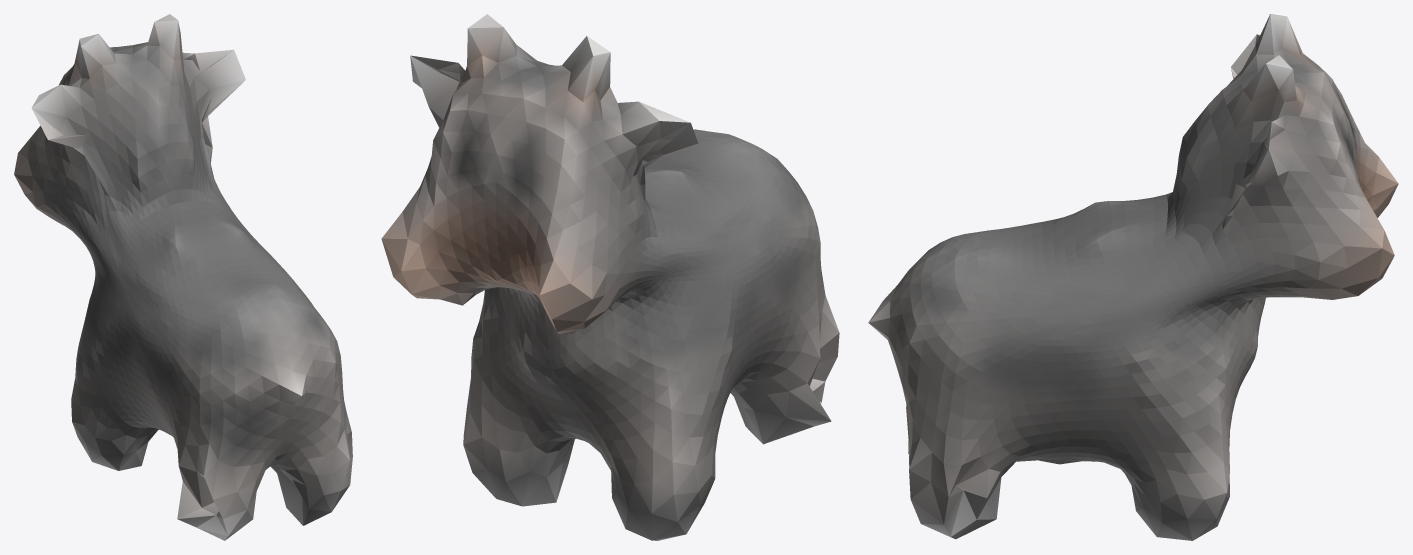
File: colored_mesh_iter_0950.obj
3 renders of one model, left to right at view 1: azimuth 30°, elevation 25°; view 2: azimuth 150°, elevation 25°; view 3: azimuth 270°, elevation 25°, orthographic. The views are drawn at different scales.
Bounding box in the file's own units: 1.09 × 1.99 × 2.
